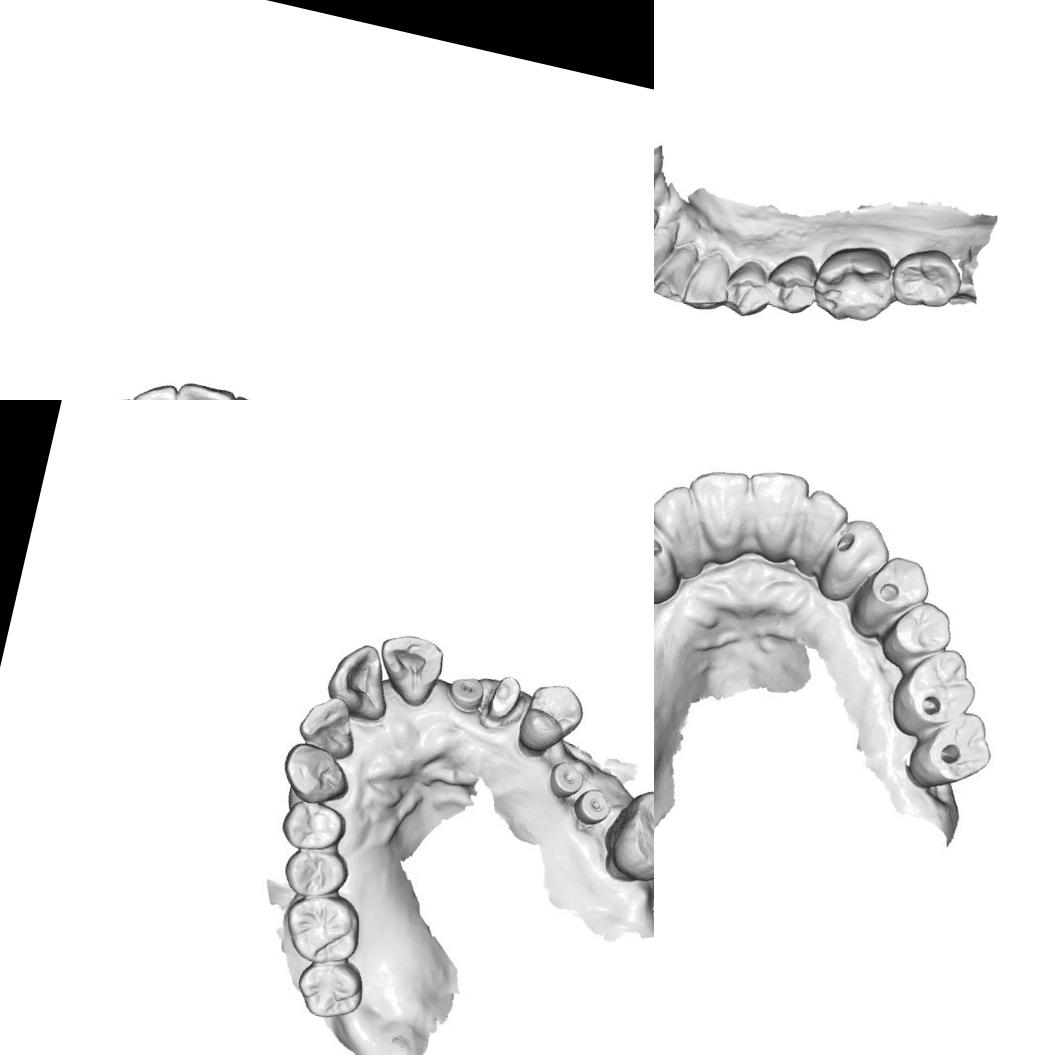canine: (815, 504, 896, 606), (273, 736, 357, 810), (680, 251, 735, 317), (654, 513, 685, 596)
crown: (481, 666, 528, 732)
implant: (544, 757, 590, 804), (444, 670, 488, 715), (573, 784, 613, 827)
incisor: (734, 463, 815, 560), (368, 629, 450, 719), (676, 460, 758, 546), (322, 636, 398, 720), (791, 484, 855, 572), (291, 695, 364, 760), (654, 478, 713, 557), (654, 244, 694, 305), (168, 375, 240, 400), (654, 224, 676, 294), (122, 376, 185, 400)
molar: (888, 638, 985, 742), (805, 234, 903, 333), (908, 702, 1002, 796), (276, 886, 368, 972), (289, 951, 375, 1030), (596, 779, 654, 895), (885, 239, 969, 317)
premolar: (853, 548, 935, 640), (512, 674, 591, 764), (884, 593, 958, 668), (272, 840, 354, 904), (760, 246, 826, 319), (276, 794, 351, 858), (718, 255, 782, 324)
